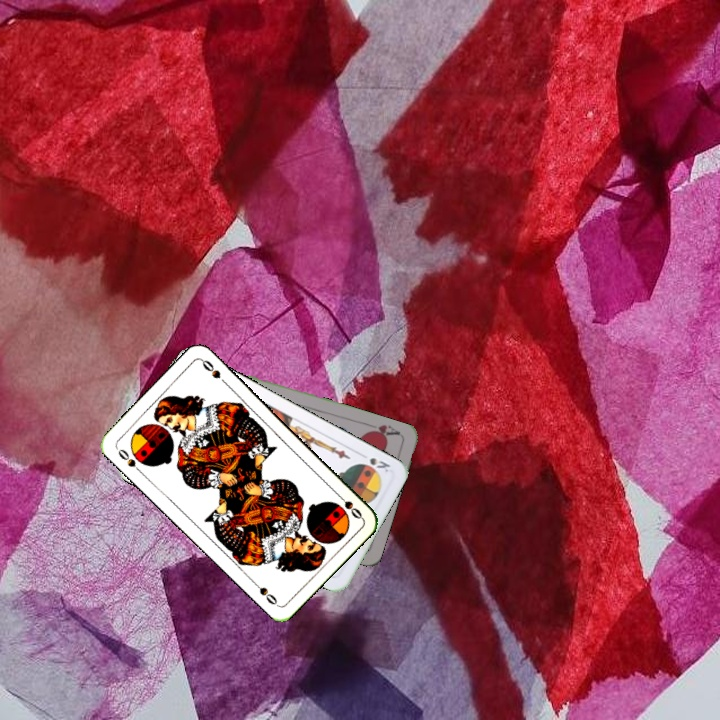HA: (362, 420, 403, 441)
SK: (356, 449, 393, 475)
SO: (332, 489, 365, 522), (112, 444, 145, 476)
